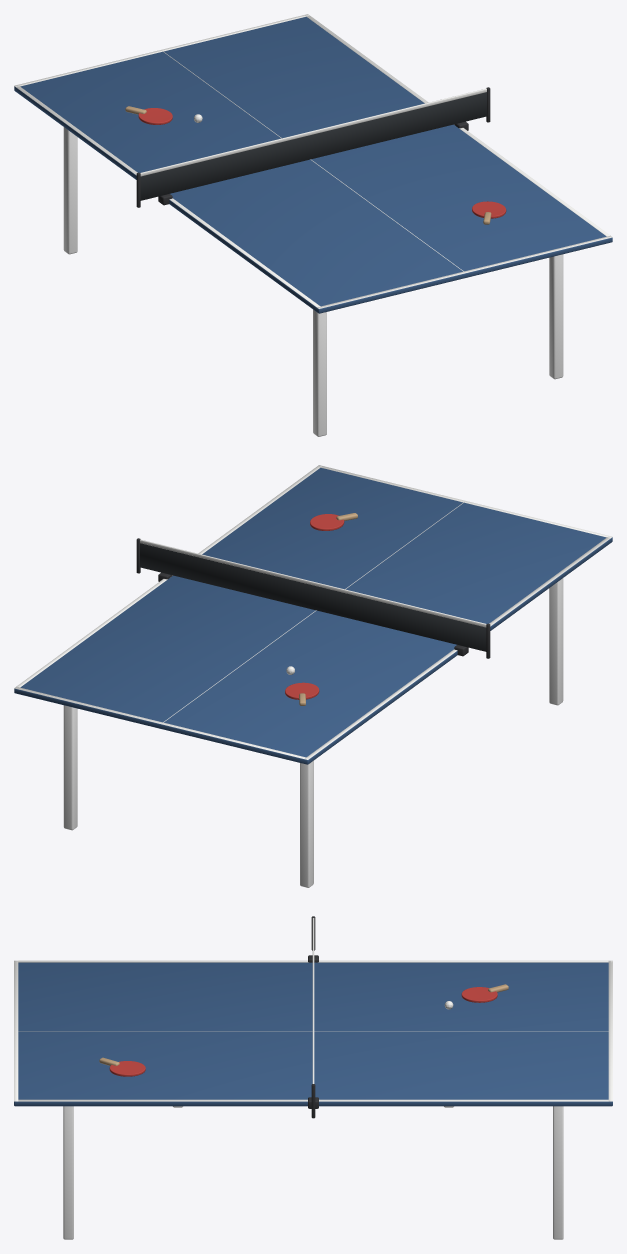
File: table-tennis-indoor.glb
3 renders of one model, top to bottom at view 1: azimuth 30°, elevation 25°; view 2: azimuth 150°, elevation 25°; view 3: azimuth 270°, elevation 25°, orthographic.
Visible parts, largest first — view 1: Table tennis top, Net mesh, Table leg.001, Table leg.002, Table leg, Net headband, Side line, Side line.001, End line.001, End line; view 2: Table tennis top, Net mesh, Table leg.003, Table leg, Table leg.002, Net headband, Side line, Side line.001, End line.001, End line; view 3: Table tennis top, Side line, Side line.001, Table leg.001, Table leg.003, End line, End line.001, Centre line, Net headband, Paddle blade, Paddle blade.001.
Part boxes in pixels (x1=…): Table tennis top: x1=14, y1=16, x2=612, y2=313; Net mesh: x1=140, y1=92, x2=486, y2=200; Table leg.001: x1=549, y1=254, x2=563, y2=379; Table leg.002: x1=63, y1=127, x2=77, y2=254; Table leg: x1=313, y1=309, x2=326, y2=436; Net headband: x1=140, y1=88, x2=486, y2=176; Side line: x1=15, y1=85, x2=321, y2=308; Side line.001: x1=305, y1=15, x2=610, y2=236; End line.001: x1=14, y1=14, x2=309, y2=87; End line: x1=317, y1=235, x2=612, y2=308; Table tennis top: x1=14, y1=467, x2=612, y2=764; Net mesh: x1=140, y1=543, x2=486, y2=651; Table leg.003: x1=63, y1=705, x2=77, y2=830; Table leg: x1=549, y1=578, x2=563, y2=705; Table leg.002: x1=300, y1=760, x2=313, y2=887; Net headband: x1=140, y1=539, x2=486, y2=627; Side line: x1=305, y1=536, x2=611, y2=759; Side line.001: x1=16, y1=466, x2=321, y2=687; End line.001: x1=14, y1=686, x2=309, y2=759; End line: x1=317, y1=465, x2=612, y2=538; Table tennis top: x1=14, y1=962, x2=612, y2=1106; Side line: x1=17, y1=960, x2=612, y2=962; Side line.001: x1=18, y1=1099, x2=608, y2=1101; Table leg.001: x1=63, y1=1106, x2=73, y2=1239; Table leg.003: x1=553, y1=1106, x2=563, y2=1239; End line: x1=14, y1=960, x2=18, y2=1101; End line.001: x1=608, y1=960, x2=612, y2=1101; Centre line: x1=18, y1=1031, x2=608, y2=1031; Net headband: x1=312, y1=918, x2=314, y2=1083; Paddle blade: x1=109, y1=1061, x2=145, y2=1076; Paddle blade.001: x1=461, y1=987, x2=497, y2=1002.
Bounding box in the file's own units: 1.83 × 0.9125 × 2.74.
